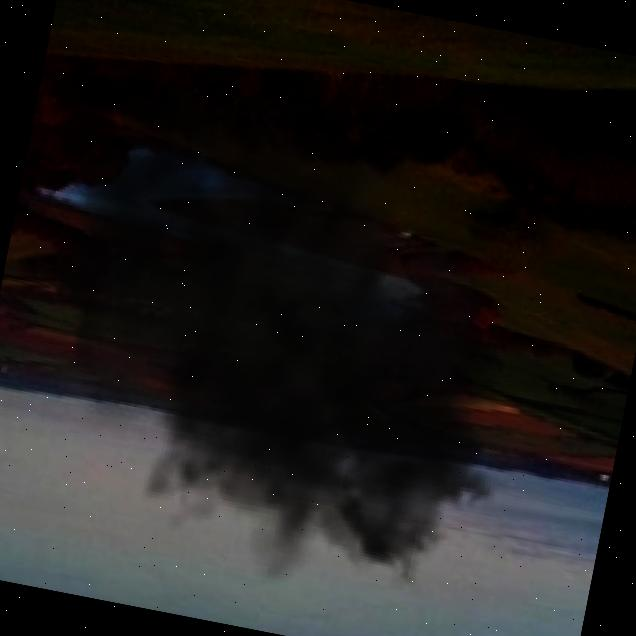smoke: (0, 15, 602, 629)
